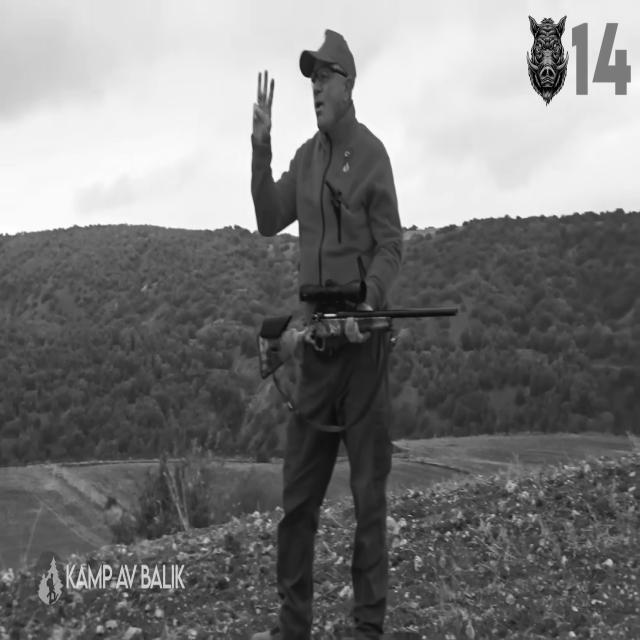boar: (526, 15, 568, 104)
monkey: (251, 29, 402, 309), (273, 318, 391, 637)
